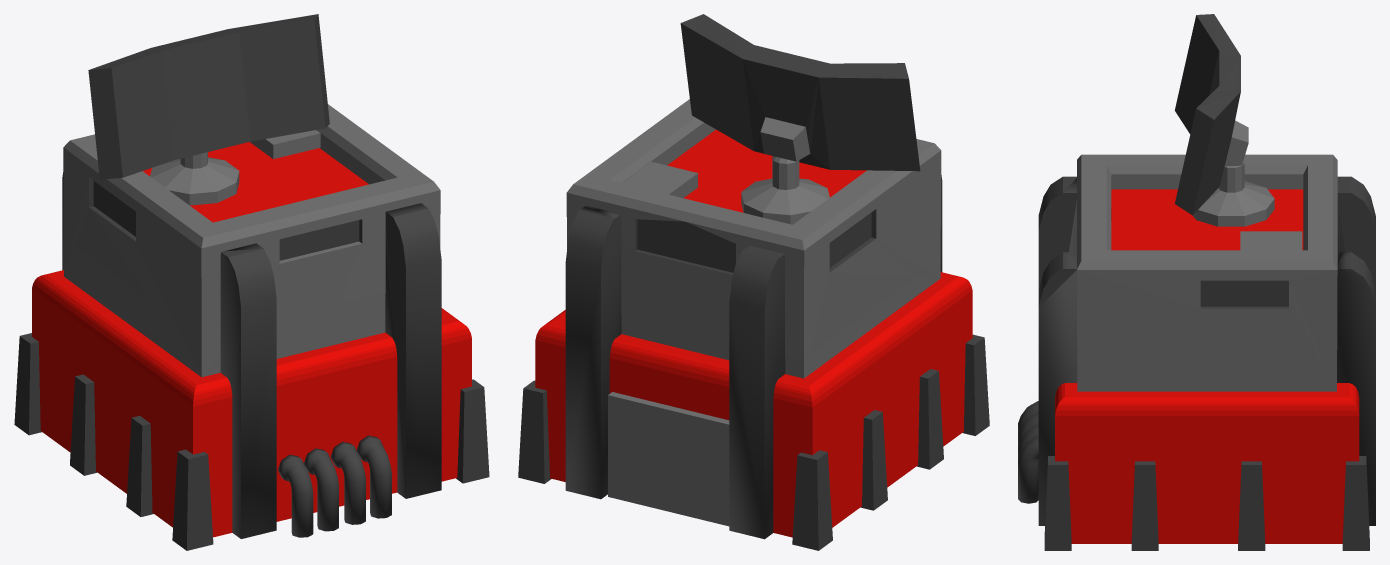
Rendered from Tower.fbx.
The picture shows the model from 3 angles, left to right: view 1: azimuth 30°, elevation 25°; view 2: azimuth 150°, elevation 25°; view 3: azimuth 270°, elevation 25°; orthographic projection. The views are drawn at different scales.
Parts seen in each view (by area): view 1: Headquarters_Red.007, Headquarters_Red, Headquarters_Red.004, Headquarters_Red.012, Headquarters_Red.015, Headquarters_Red.001, Headquarters_Red.013, Headquarters_Red.014, Headquarters_Red.005, Headquarters_Red.006, Headquarters_Red.008; view 2: Headquarters_Red.007, Headquarters_Red, Headquarters_Red.004, Headquarters_Red.011, Headquarters_Red.010, Headquarters_Red.005, Headquarters_Red.009, Headquarters_Red.006, Headquarters_Red.013, Headquarters_Red.008; view 3: Headquarters_Red.007, Headquarters_Red, Headquarters_Red.004, Headquarters_Red.015, Headquarters_Red.010, Headquarters_Red.011, Headquarters_Red.012, Headquarters_Red.009, Headquarters_Red.014, Headquarters_Red.002, Headquarters_Red.003, Headquarters_Red.001.
Boxes of the visible parts, x1=… form: Headquarters_Red.007: x1=63, y1=104, x2=440, y2=377; Headquarters_Red: x1=32, y1=270, x2=471, y2=537; Headquarters_Red.004: x1=88, y1=14, x2=329, y2=205; Headquarters_Red.012: x1=220, y1=243, x2=276, y2=538; Headquarters_Red.015: x1=385, y1=203, x2=441, y2=498; Headquarters_Red.001: x1=278, y1=435, x2=391, y2=537; Headquarters_Red.013: x1=172, y1=449, x2=213, y2=550; Headquarters_Red.014: x1=456, y1=379, x2=489, y2=483; Headquarters_Red.005: x1=14, y1=333, x2=41, y2=435; Headquarters_Red.006: x1=126, y1=415, x2=153, y2=516; Headquarters_Red.008: x1=70, y1=374, x2=97, y2=475; Headquarters_Red.007: x1=566, y1=99, x2=941, y2=378; Headquarters_Red: x1=535, y1=272, x2=972, y2=537; Headquarters_Red.004: x1=680, y1=14, x2=920, y2=224; Headquarters_Red.011: x1=729, y1=245, x2=785, y2=539; Headquarters_Red.010: x1=565, y1=205, x2=621, y2=499; Headquarters_Red.005: x1=792, y1=450, x2=832, y2=550; Headquarters_Red.009: x1=518, y1=380, x2=551, y2=483; Headquarters_Red.006: x1=916, y1=369, x2=943, y2=469; Headquarters_Red.013: x1=962, y1=334, x2=989, y2=435; Headquarters_Red.008: x1=860, y1=410, x2=887, y2=510; Headquarters_Red.007: x1=1077, y1=154, x2=1337, y2=391; Headquarters_Red: x1=1055, y1=383, x2=1359, y2=543; Headquarters_Red.004: x1=1174, y1=14, x2=1274, y2=226; Headquarters_Red.015: x1=1038, y1=252, x2=1077, y2=525; Headquarters_Red.010: x1=1337, y1=252, x2=1375, y2=525; Headquarters_Red.011: x1=1337, y1=176, x2=1375, y2=290; Headquarters_Red.012: x1=1038, y1=176, x2=1076, y2=289; Headquarters_Red.009: x1=1342, y1=456, x2=1369, y2=550; Headquarters_Red.014: x1=1044, y1=456, x2=1071, y2=550; Headquarters_Red.002: x1=1131, y1=461, x2=1158, y2=550; Headquarters_Red.003: x1=1238, y1=461, x2=1265, y2=550; Headquarters_Red.001: x1=1018, y1=401, x2=1038, y2=503.
Bounding box in the file's own units: 150 × 196 × 159.
